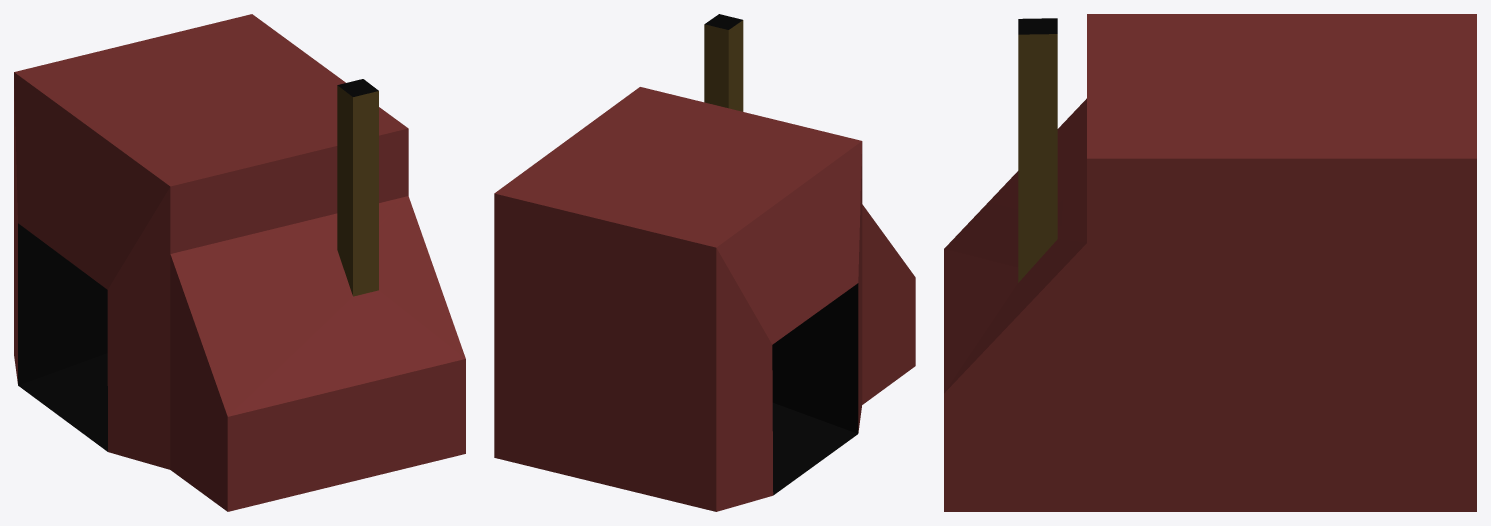
Rendered from factory_r.fbx.
3 views of the same model, side by side, from view 1: azimuth 30°, elevation 25°; view 2: azimuth 150°, elevation 25°; view 3: azimuth 270°, elevation 25° (orthographic). The views are drawn at different scales.
Visible parts, largest first — view 1: Cube; view 2: Cube; view 3: Cube.
Part boxes in pixels (x1,y1,x2,y2): Cube: (14, 14, 465, 511); Cube: (494, 14, 915, 511); Cube: (944, 14, 1476, 511).
Bounding box in the file's own units: 197 × 251 × 273.
Materials: 1 (1 with a texture image).
